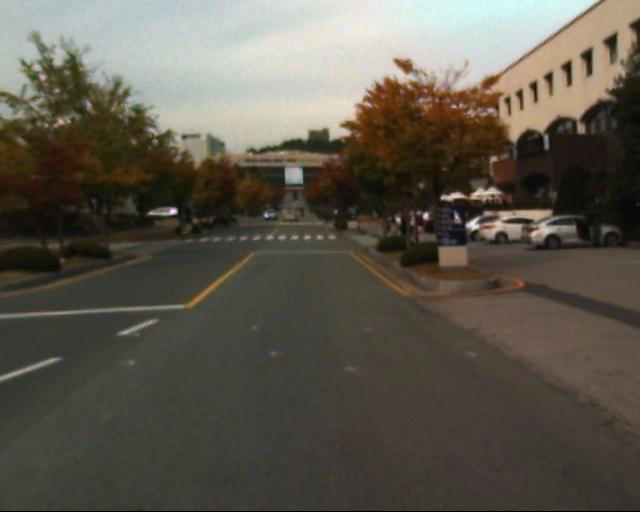person: (448, 225, 468, 270)
